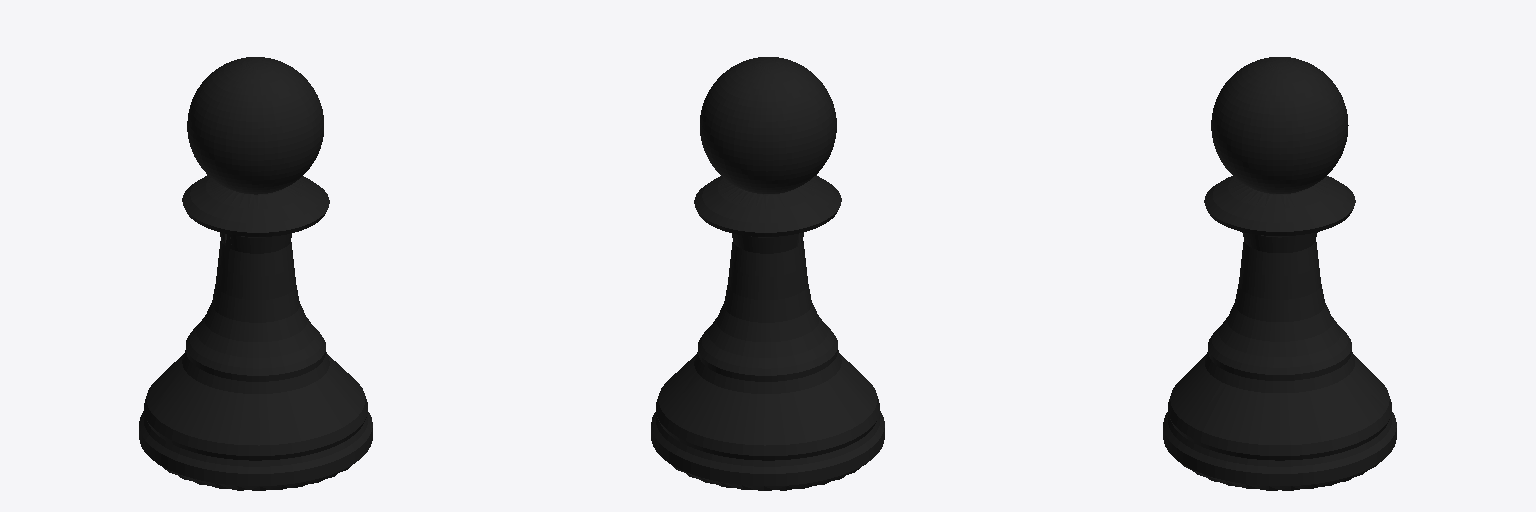
Rendered from lowploycountpawnblack.obj.
The picture shows the model from 3 angles: view 1: azimuth 30°, elevation 25°; view 2: azimuth 150°, elevation 25°; view 3: azimuth 270°, elevation 25°; orthographic projection.
Parts seen in each view (by area): view 1: Cylinder; view 2: Cylinder; view 3: Cylinder.
Boxes of the visible parts, <box> form: Cylinder: <box>139,57,372,490</box>; Cylinder: <box>651,57,884,490</box>; Cylinder: <box>1163,57,1396,490</box>.
Size of the model in its own units: 1.99 by 3.63 by 1.99.